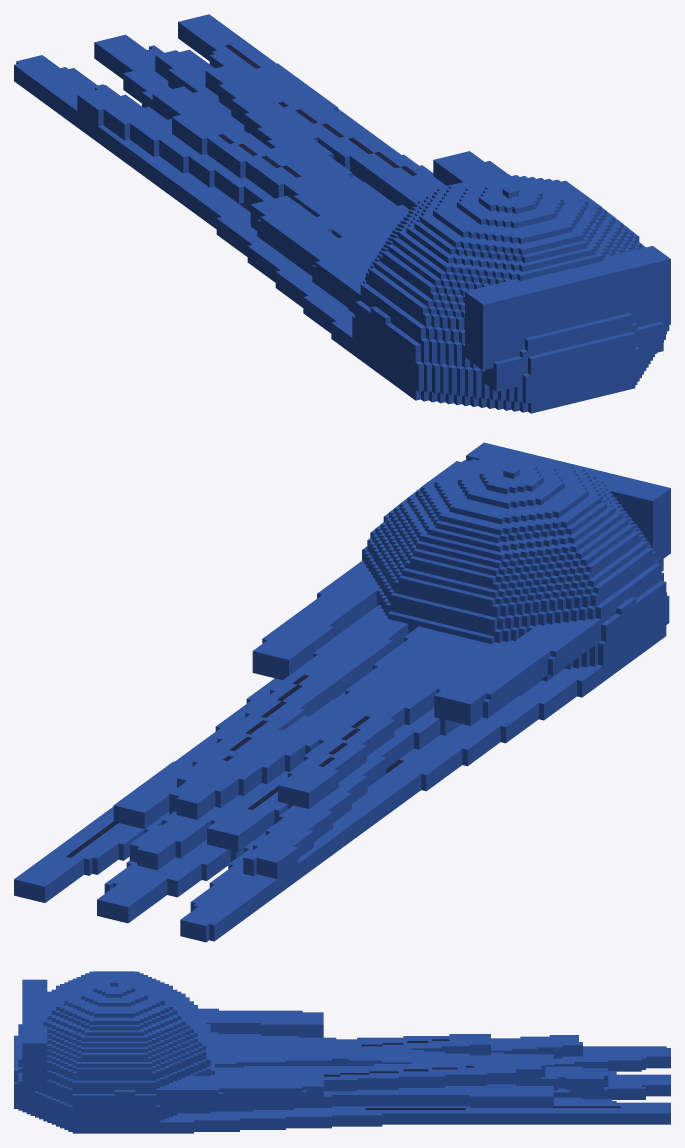
File: long_blue_wig.glb
3 renders of one model, top to bottom at view 1: azimuth 30°, elevation 25°; view 2: azimuth 150°, elevation 25°; view 3: azimuth 270°, elevation 25°, orthographic. The views are drawn at different scales.
Parts seen in each view (by area): view 1: long_blue_wig:compound; view 2: long_blue_wig:compound; view 3: long_blue_wig:compound.
Part boxes in pixels (left/top/right/bottom): long_blue_wig:compound: left=14, top=14, right=670, bottom=413; long_blue_wig:compound: left=14, top=442, right=670, bottom=942; long_blue_wig:compound: left=14, top=971, right=670, bottom=1133.
Bounding box in the file's own units: 0.192 × 0.116 × 0.628.
